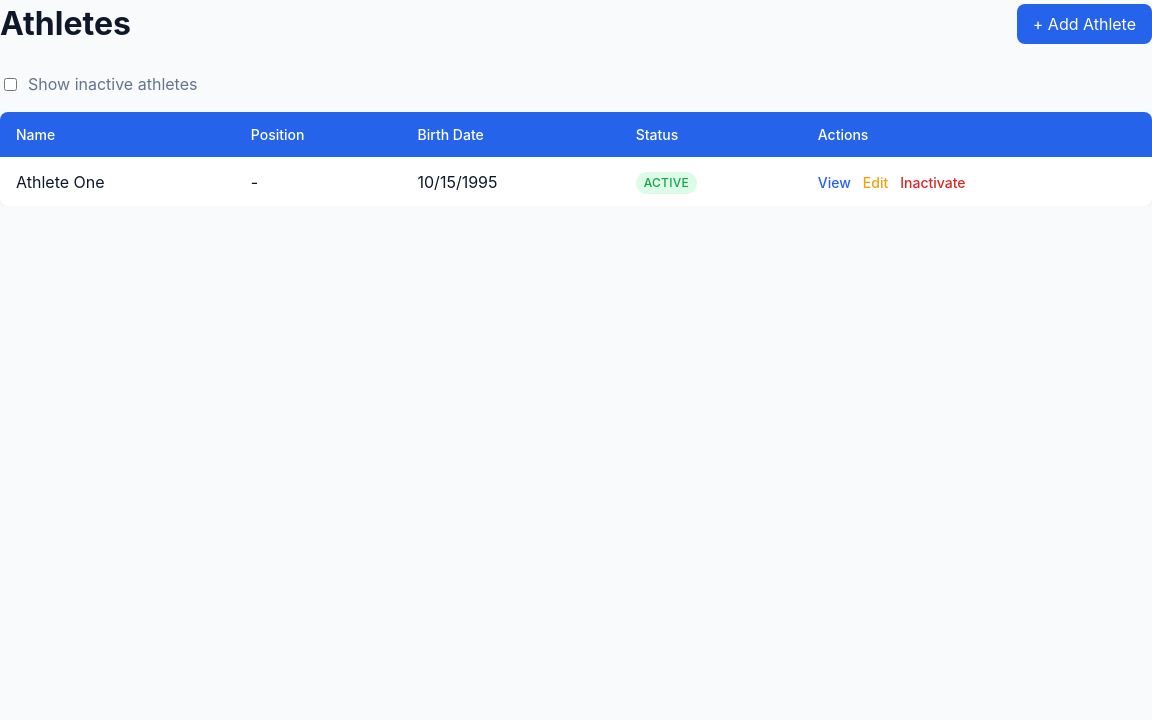
Test case: AthletesPage › opens edit modal, saves, and updates list
Expected: the text "Athlete One" is shown, [0,157,235,206]
Click the button "Edit": (876, 182) [863,174,888,190]
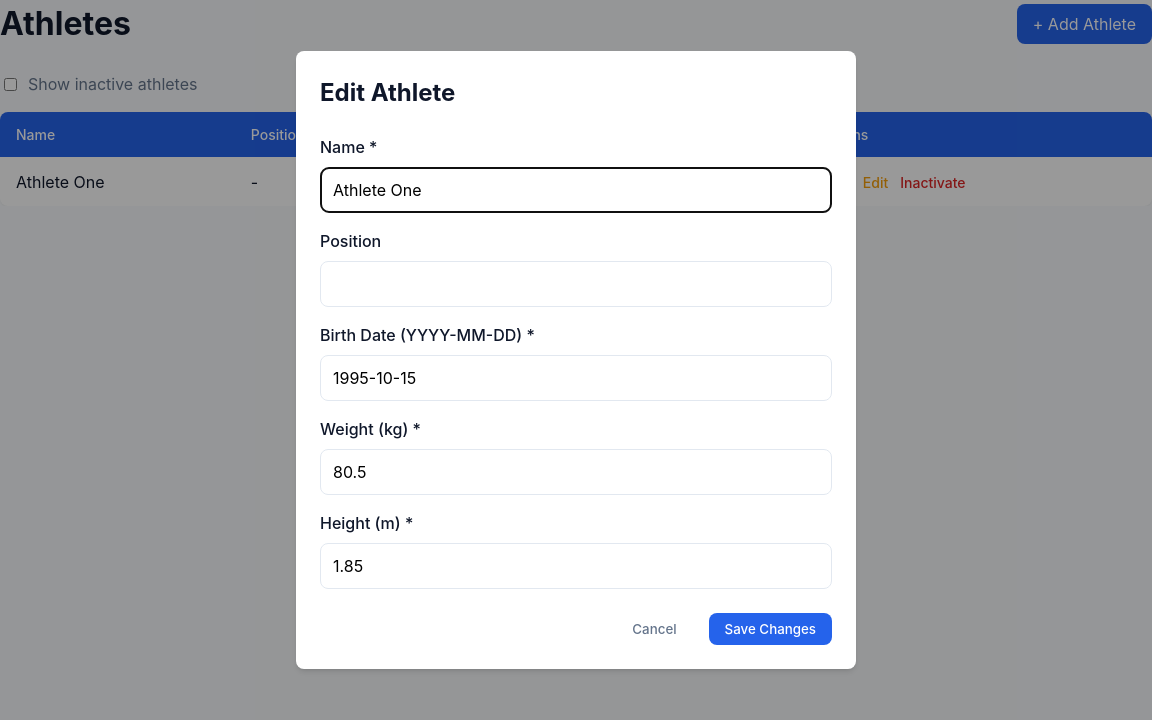
Now the dialog "Edit Athlete" is shown
Replace the text in the field labelled "Name *" with "Athlete Updated": (576, 190) [320,167,832,213]
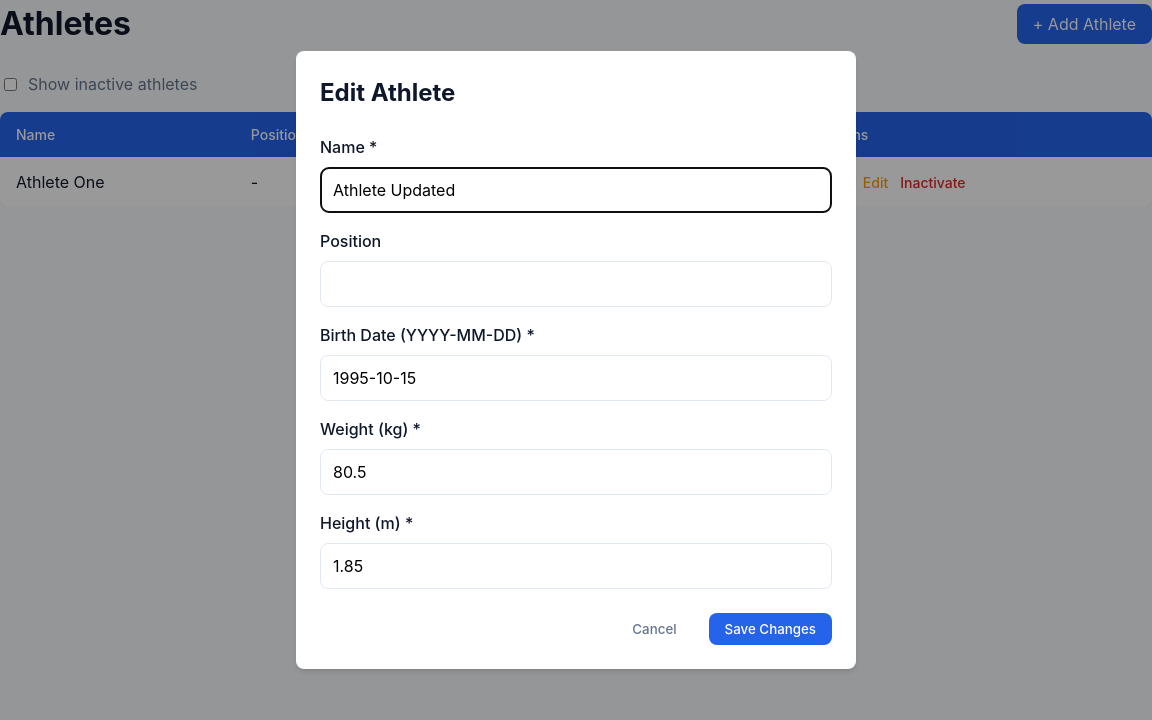
Click the button "Save Changes": (770, 629) [709,613,832,645]
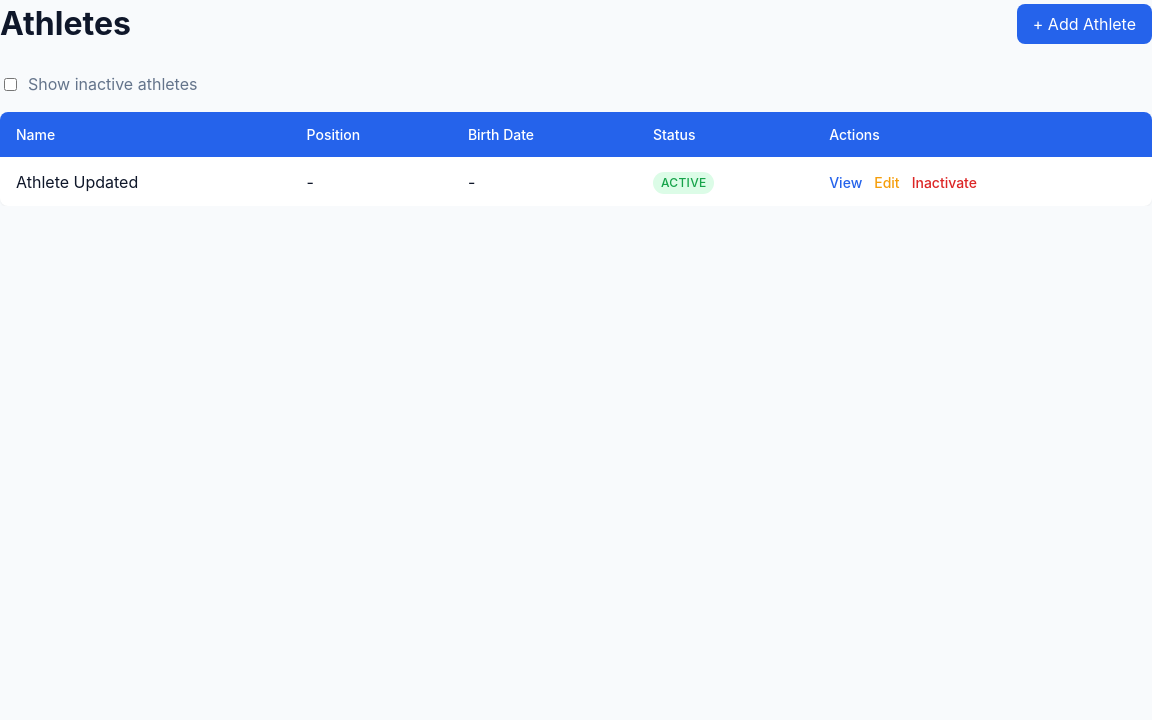
Now the dialog is gone
Now the text "Athlete Updated" is shown, box [0,157,291,206]
Now the text "Athlete One" is gone
